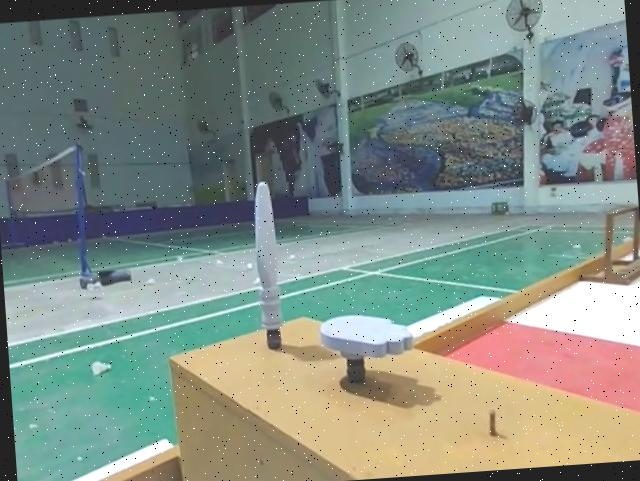Hand: (316, 306, 414, 387)
Sph: (244, 179, 290, 356)
